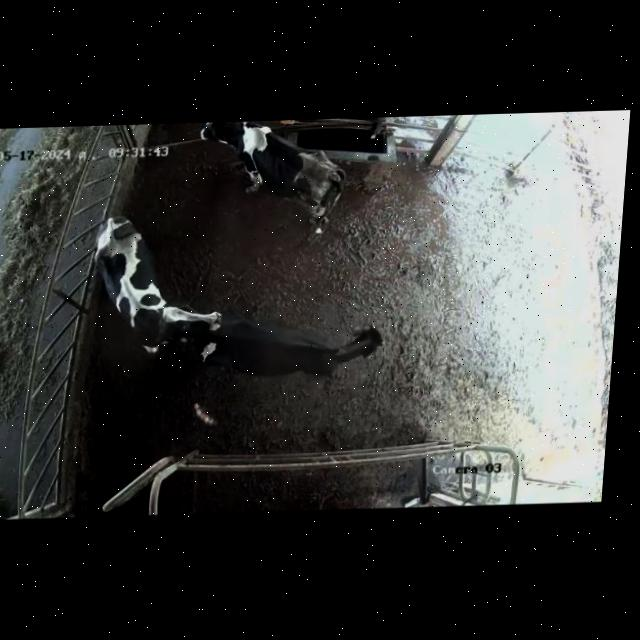propping: (138, 298, 266, 367)
stand: (181, 117, 353, 246), (225, 300, 396, 396)
